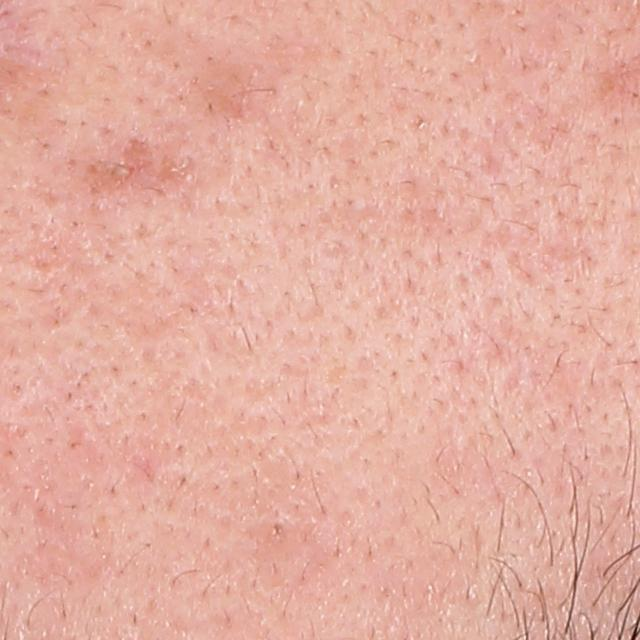comedo: (263, 517, 287, 544)
